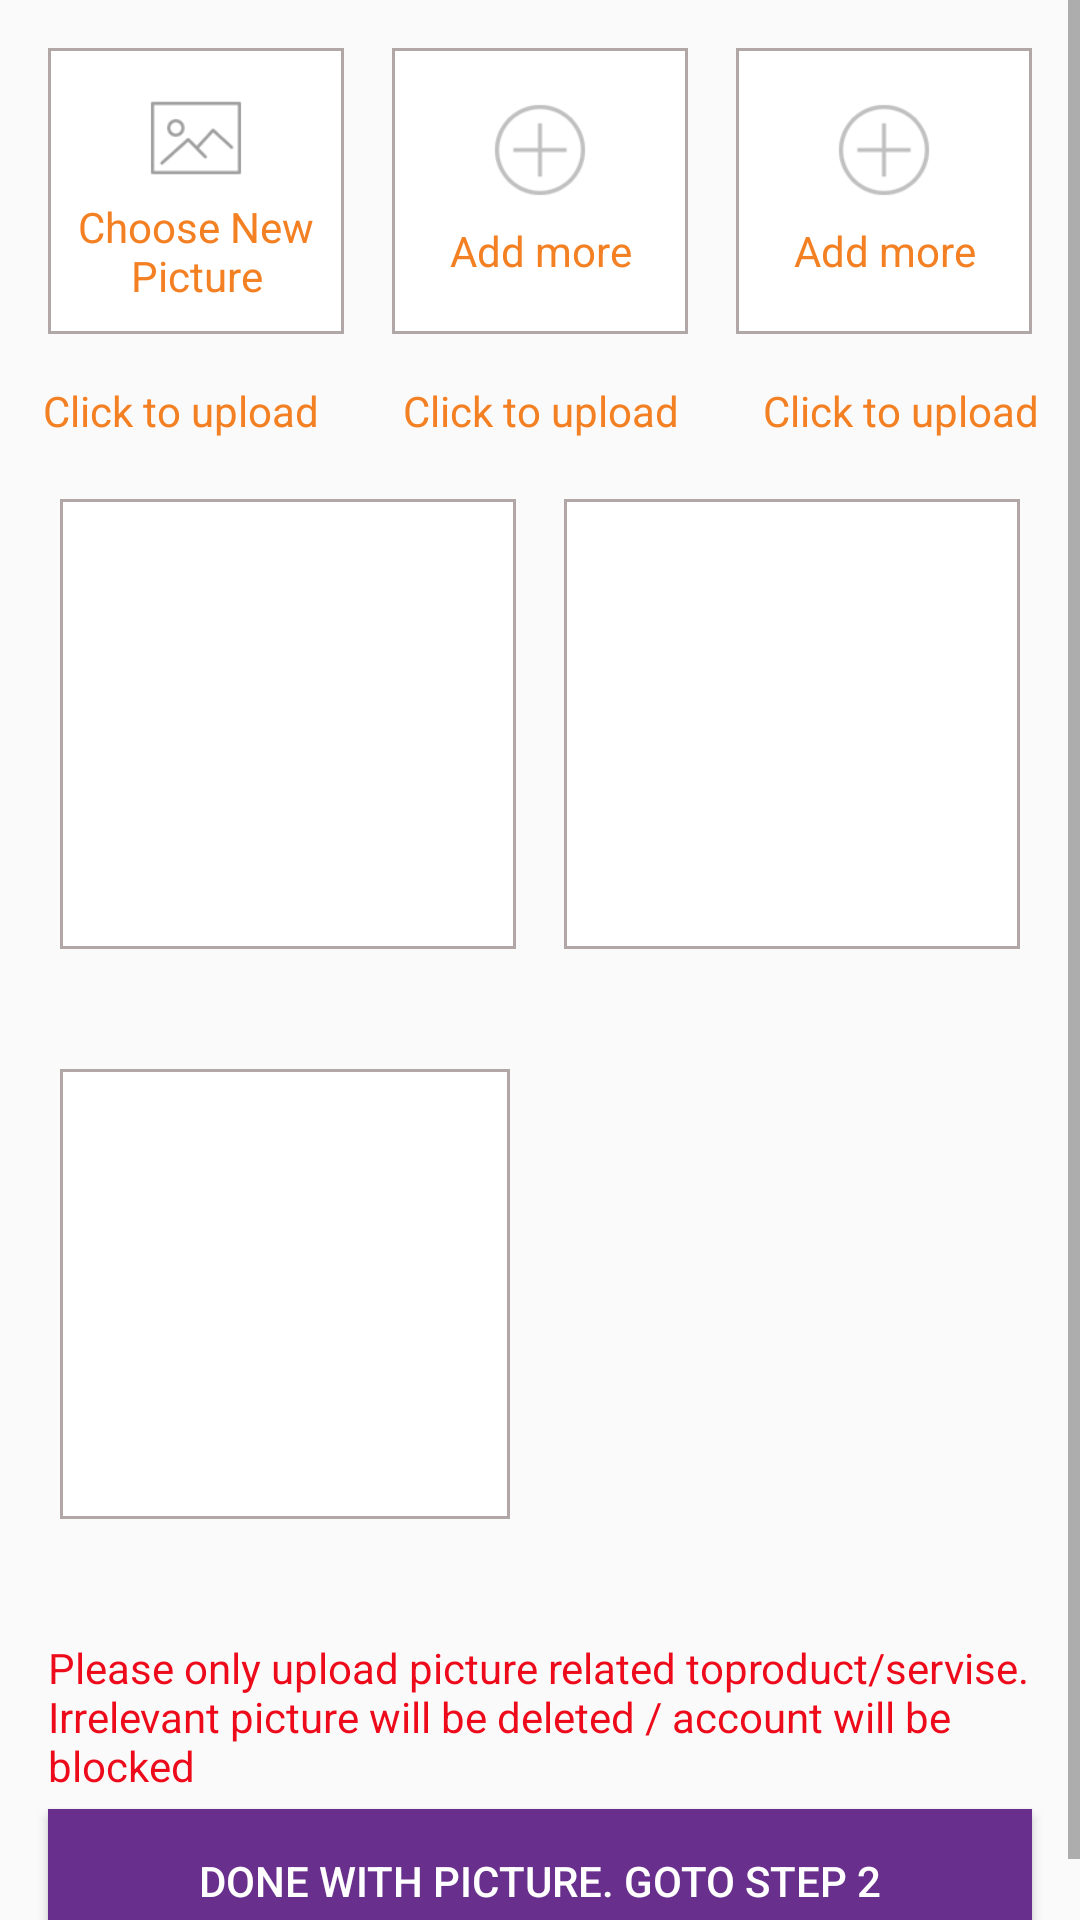

Where icons sit on this 1080px×1920px app screen, as (x1, y1, x2, y2):
add circular plus sign: (495, 105, 585, 195), (839, 105, 929, 195)
